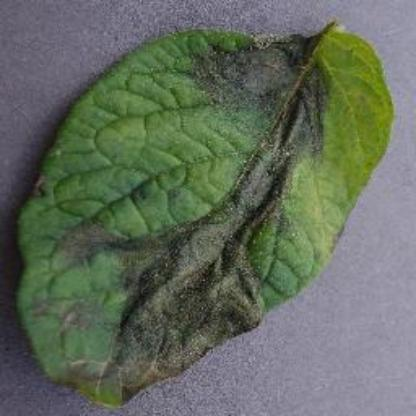Late-Blight: (12, 17, 398, 404)
